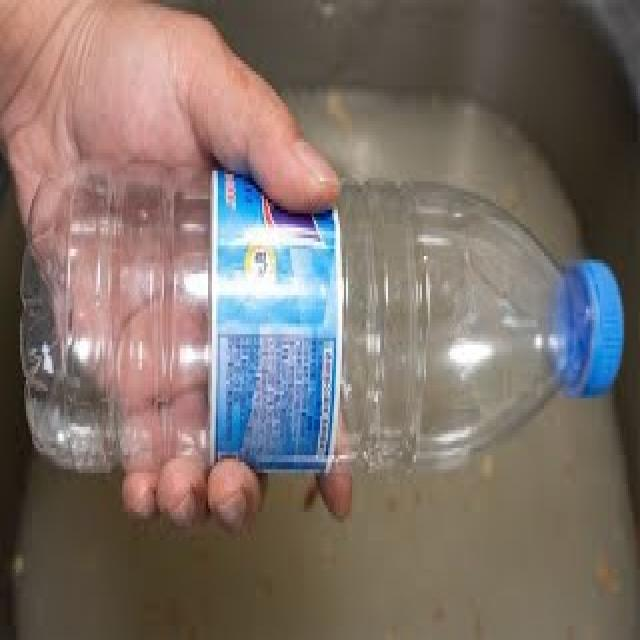plastic: (25, 156, 625, 477)
